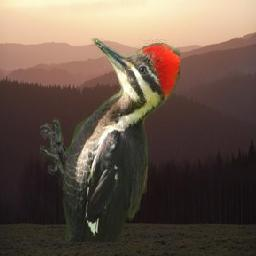Woodpecker: (40, 38, 180, 242)
